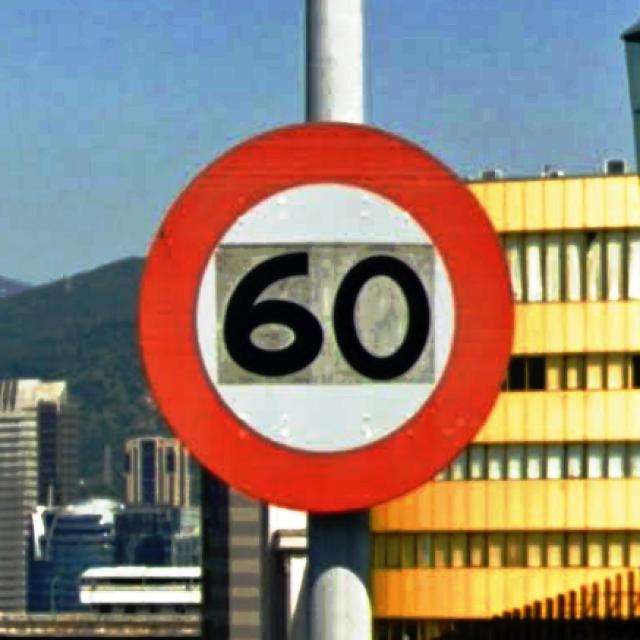max60: (132, 118, 517, 516)
